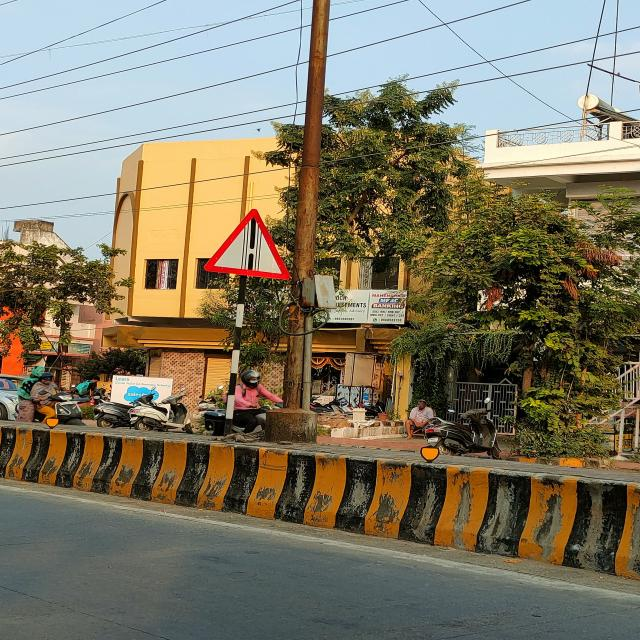ferry: (202, 210, 292, 280)
